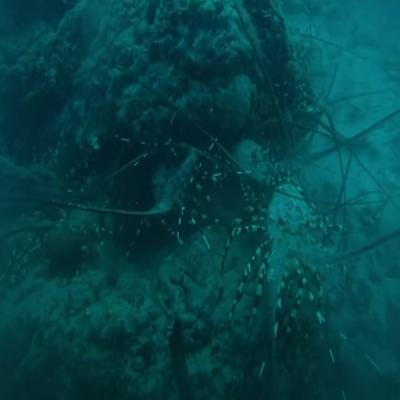lobster: (262, 188, 318, 300), (150, 162, 202, 233), (234, 135, 279, 186)
